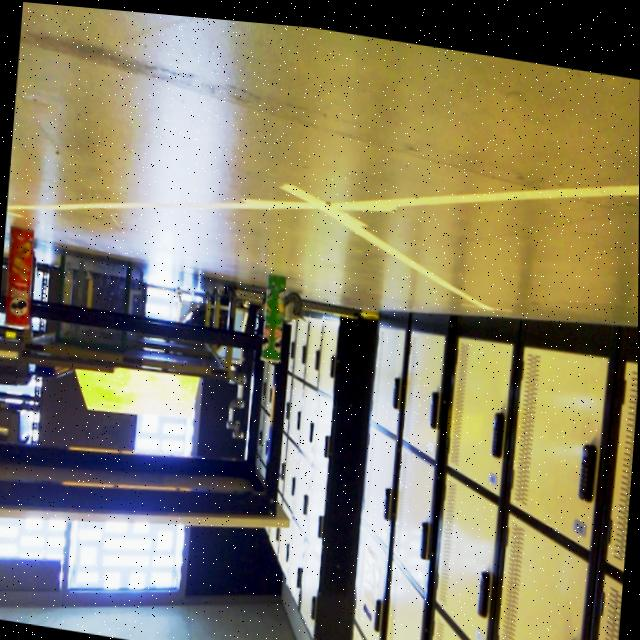greenpringles: (243, 251, 302, 372)
redpringles: (0, 216, 53, 345)
